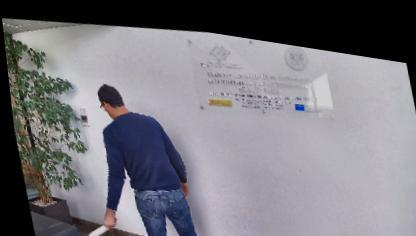knife: (76, 207, 118, 233)
